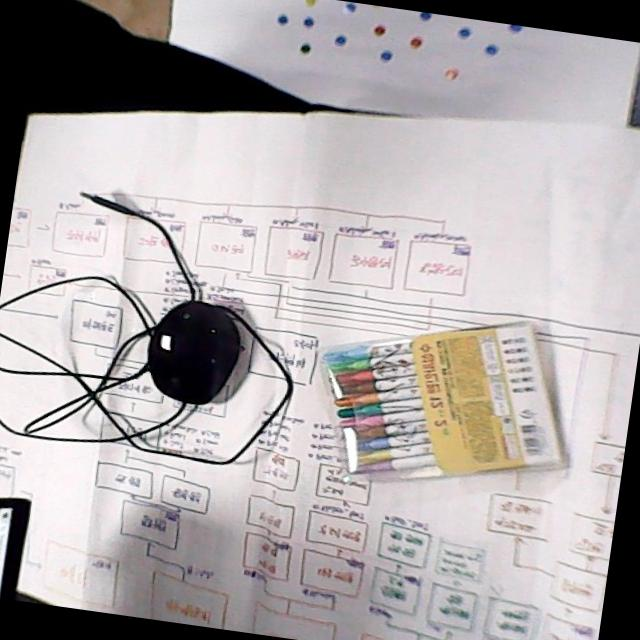mouse: (142, 295, 248, 412)
signpen: (309, 313, 571, 489)
